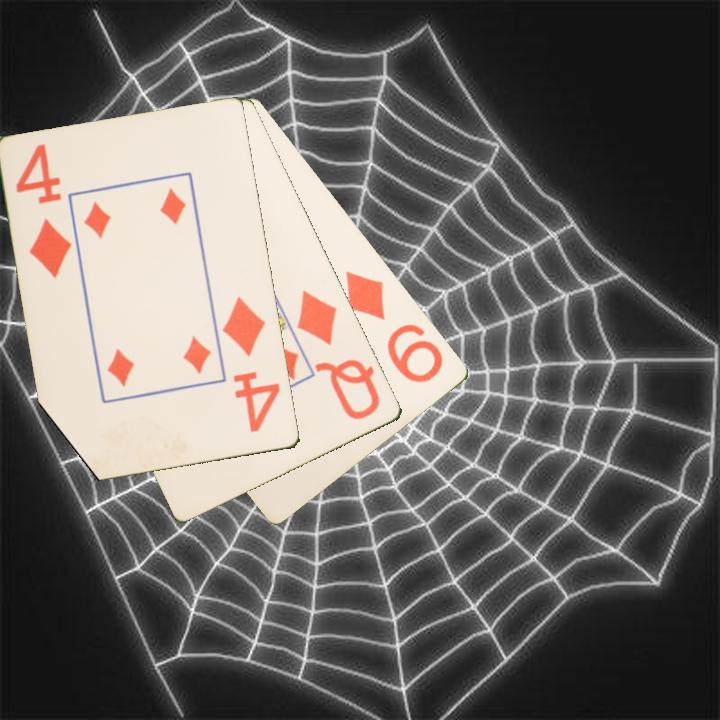4d: (219, 293, 284, 436), (12, 141, 75, 282)
9d: (342, 267, 447, 386)
Qd: (294, 287, 384, 423)
